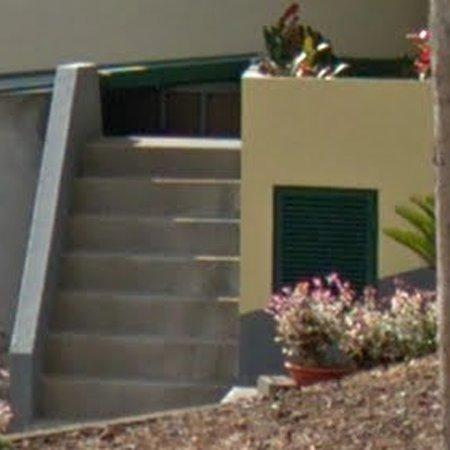stairs: (41, 137, 241, 419)
